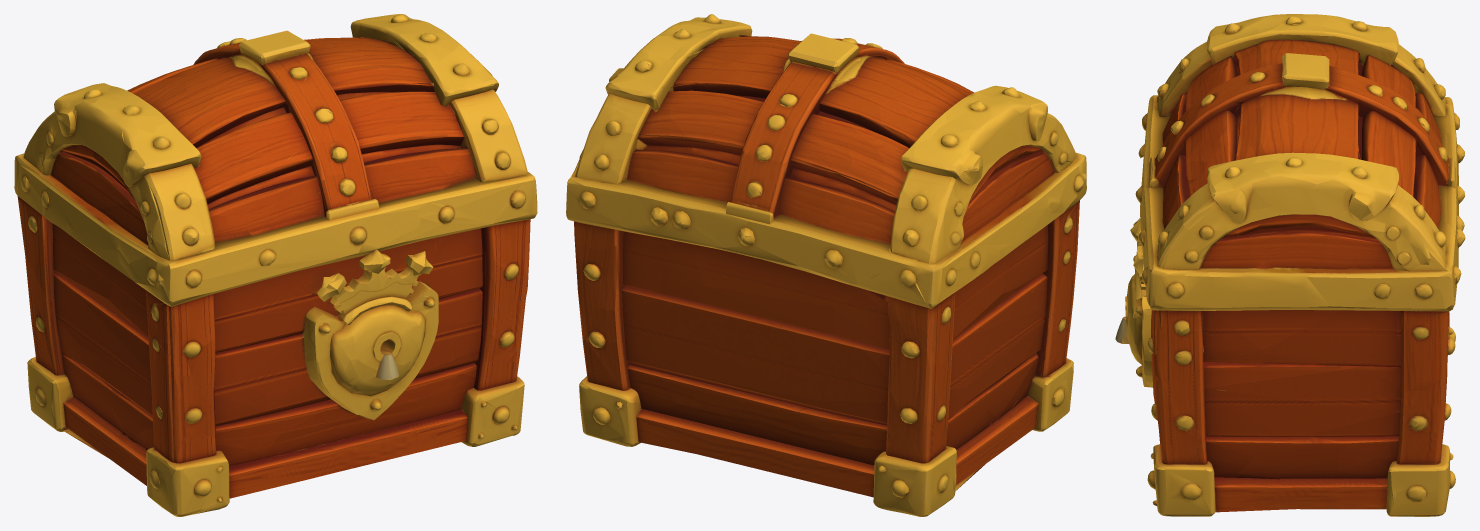
The model's file is gold_chest_static.glb.
3 renders of one model, left to right at view 1: azimuth 30°, elevation 25°; view 2: azimuth 150°, elevation 25°; view 3: azimuth 270°, elevation 25°, orthographic. The views are drawn at different scales.
Size of the model in its own units: 1.9 by 1.8 by 1.54.
Materials: 1 (1 with a texture image).
